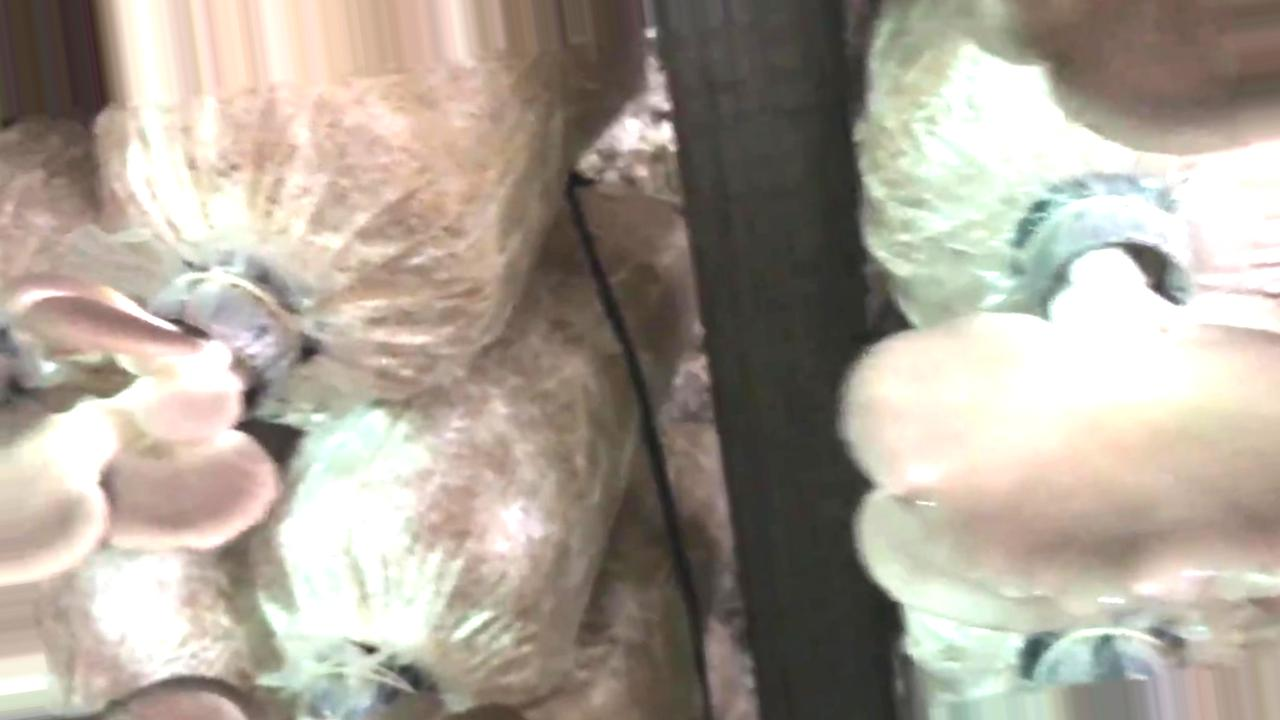nam: (827, 166, 1280, 607), (1, 262, 311, 590), (932, 5, 1280, 160)
